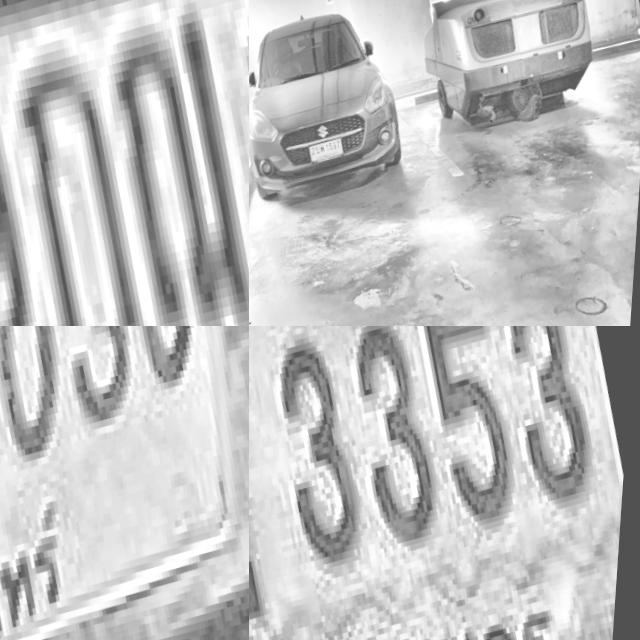license-plate: (249, 326, 640, 640), (0, 0, 249, 326), (0, 326, 249, 640), (308, 137, 352, 170)
